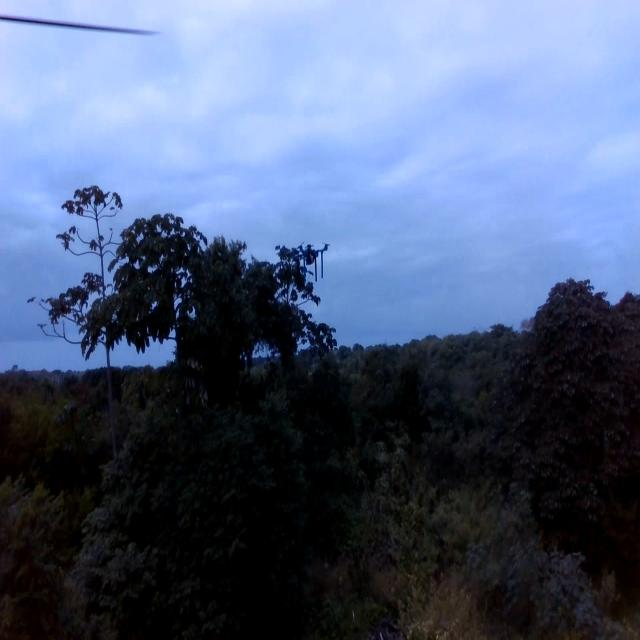-uav-: (288, 230, 334, 289)
